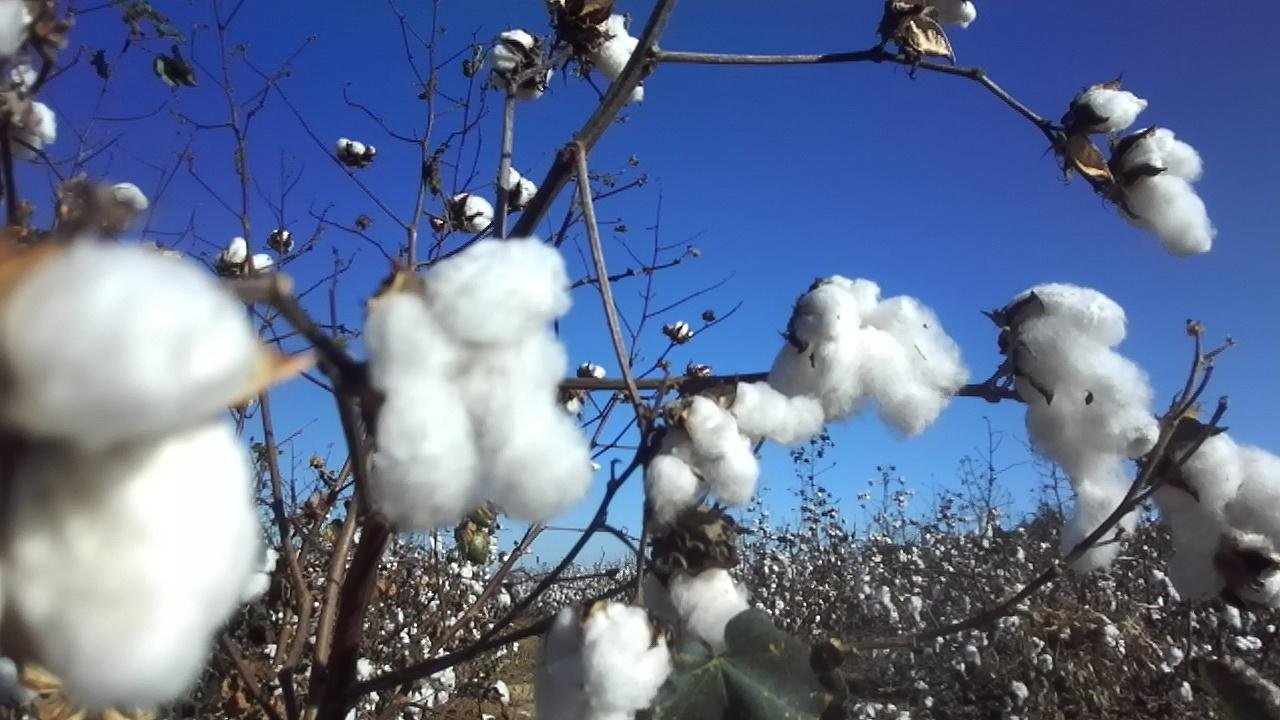cotton_ready: (0, 234, 264, 711), (367, 239, 592, 529), (1007, 282, 1158, 567), (775, 272, 968, 438), (648, 382, 822, 527), (1162, 445, 1280, 607), (533, 595, 670, 720), (1114, 126, 1215, 257), (636, 567, 752, 662), (551, 0, 647, 102), (1156, 425, 1240, 520), (1225, 530, 1280, 609), (0, 98, 57, 164), (1074, 89, 1150, 129), (0, 0, 37, 59), (925, 1, 979, 30)
